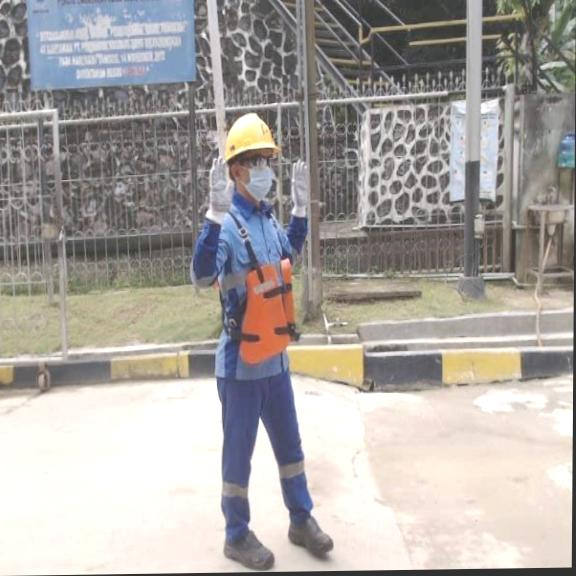safety_vest: (235, 257, 302, 364)
